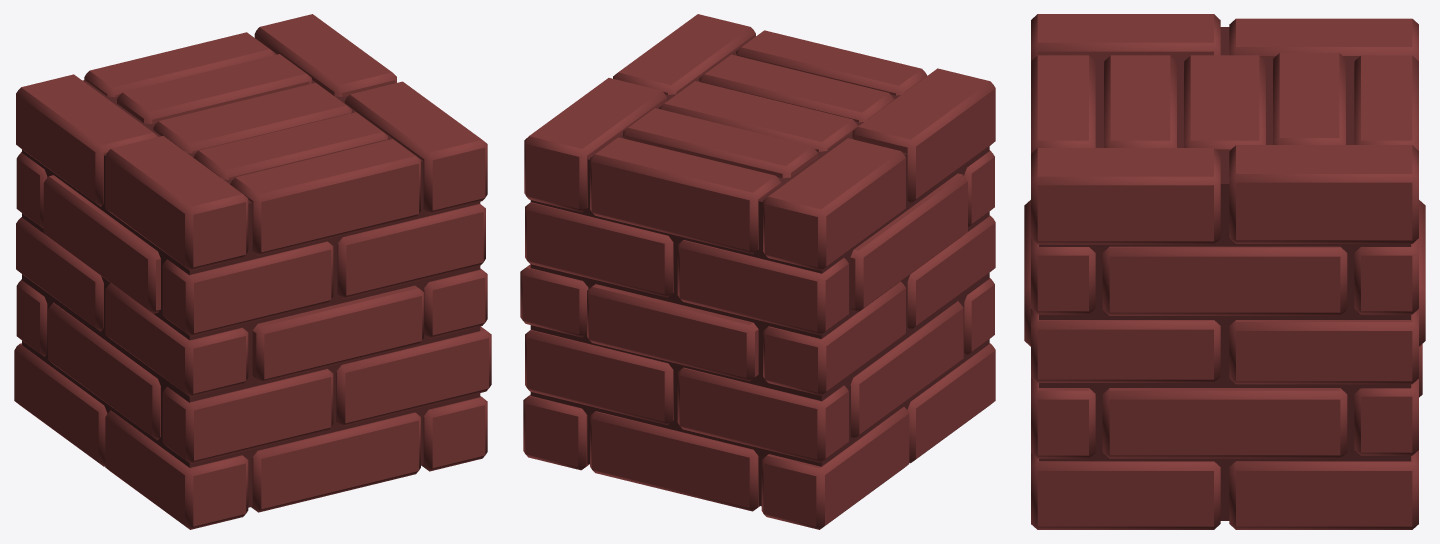
The model's file is Cube_Bricks.glb.
3 views of the same model, side by side, from view 1: azimuth 30°, elevation 25°; view 2: azimuth 150°, elevation 25°; view 3: azimuth 270°, elevation 25° (orthographic). The views are drawn at different scales.
Visible parts, largest first — view 1: Cube_Bricks; view 2: Cube_Bricks; view 3: Cube_Bricks.
Boxes of the visible parts, x1,y1,x2,y2 form: Cube_Bricks: (14,14,491,529); Cube_Bricks: (520,14,995,529); Cube_Bricks: (1024,14,1425,529).
Bounding box in the file's own units: 2.04 × 2.03 × 2.06.
